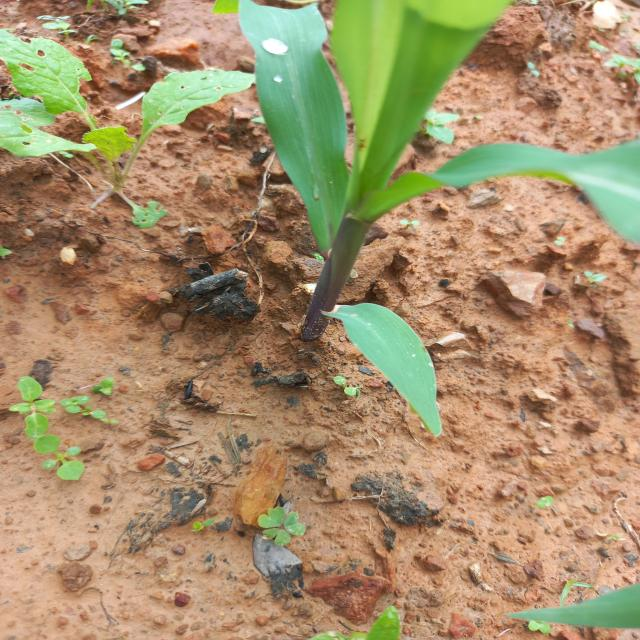maize: (235, 0, 640, 439)
weed: (0, 14, 253, 270), (1, 361, 122, 492), (284, 592, 401, 640), (574, 32, 640, 103), (249, 493, 320, 554), (105, 31, 154, 82), (422, 107, 464, 151), (180, 509, 217, 543), (328, 374, 374, 400), (39, 16, 80, 41), (520, 493, 570, 512), (548, 577, 595, 596), (577, 261, 611, 286), (519, 54, 541, 80), (522, 620, 556, 634), (605, 530, 632, 546)
